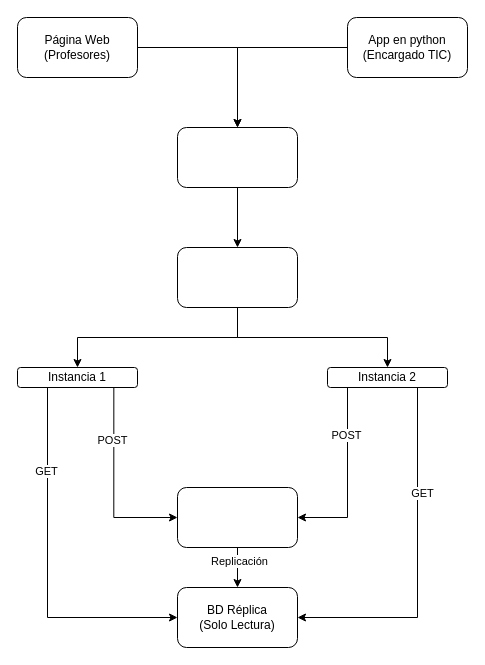
Some shapes in this 485 by 665 pixel diagram are drawn without their labels. The shapes that lost their labels are listed below. From the top down, each one's centre as x and y in pixels, then its label:
pixel 237 157: API Gateway (Entrada)
pixel 237 277: Balanceador de carga
pixel 237 517: BD Primaria (Solo Escrituras)
